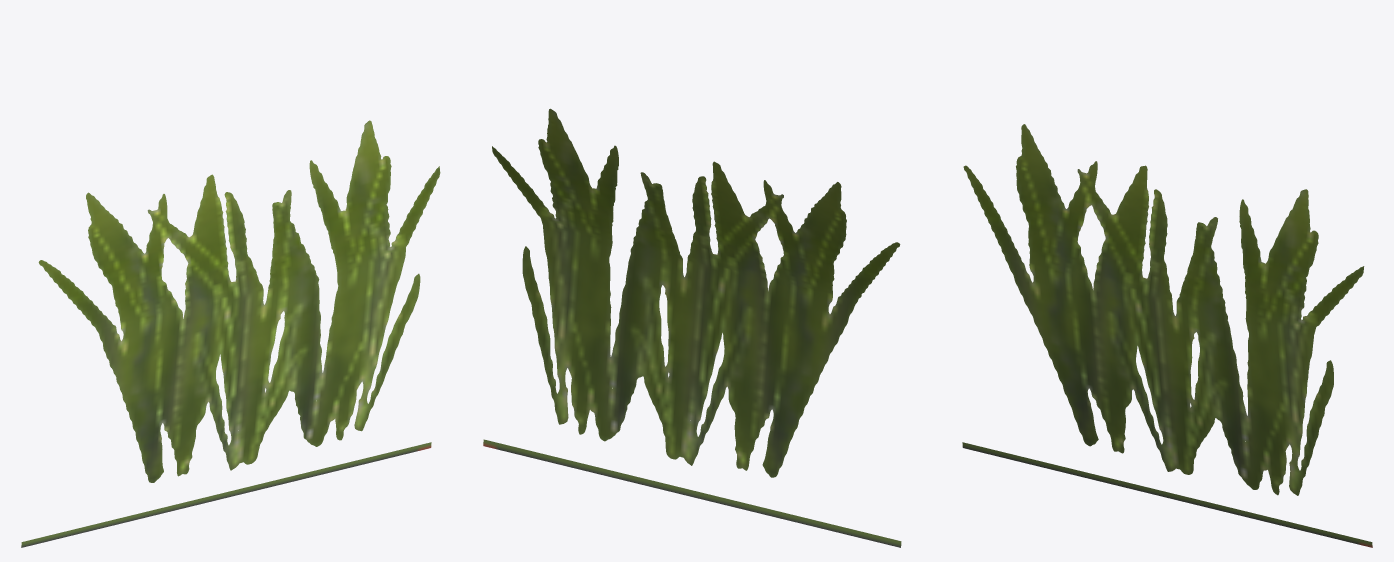
Rendered from herbe_billboard_03.glb.
3 views of the same model, side by side, from view 1: azimuth 30°, elevation 25°; view 2: azimuth 150°, elevation 25°; view 3: azimuth 330°, elevation 25° (orthographic).
Visible parts, largest first — view 1: Grass01_Art; view 2: Grass01_Art; view 3: Grass01_Art.
Part boxes in pixels (<box>): Grass01_Art: <box>21,120,440,547</box>; Grass01_Art: <box>483,108,901,547</box>; Grass01_Art: <box>962,124,1372,547</box>.
Bounding box in the file's own units: 1.51 × 1.51 × 0.1499.
1 material, 1 textured.
